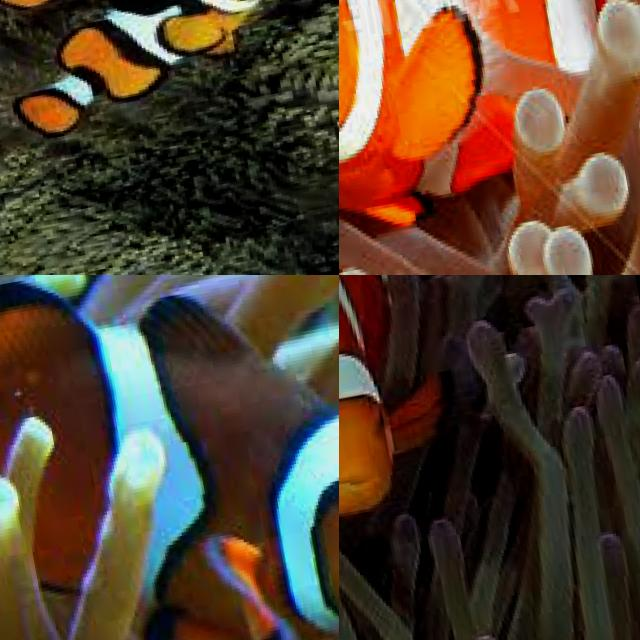Amphiprion-percula: (0, 275, 339, 640), (339, 0, 640, 275), (0, 0, 339, 223), (339, 275, 505, 533), (0, 0, 316, 121)
